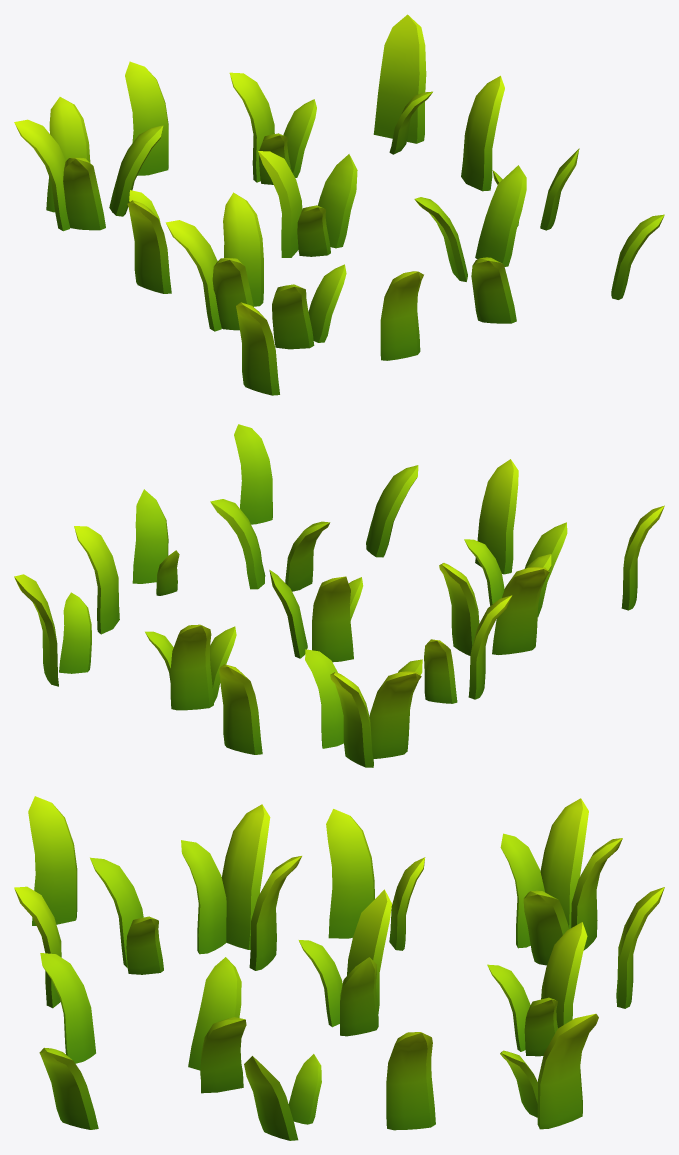
File: Plant_Grass_01.fbx
3 views of the same model, one above another, from view 1: azimuth 30°, elevation 25°; view 2: azimuth 150°, elevation 25°; view 3: azimuth 270°, elevation 25° (orthographic). The views are drawn at different scales.
Parts seen in each view (by area): view 1: Plant_Grass_01; view 2: Plant_Grass_01; view 3: Plant_Grass_01.
Part boxes in pixels (x1=…): Plant_Grass_01: x1=14, y1=14, x2=664, y2=395; Plant_Grass_01: x1=14, y1=424, x2=664, y2=767; Plant_Grass_01: x1=14, y1=796, x2=664, y2=1140.
Size of the model in its own units: 165 by 38.7 by 190.
